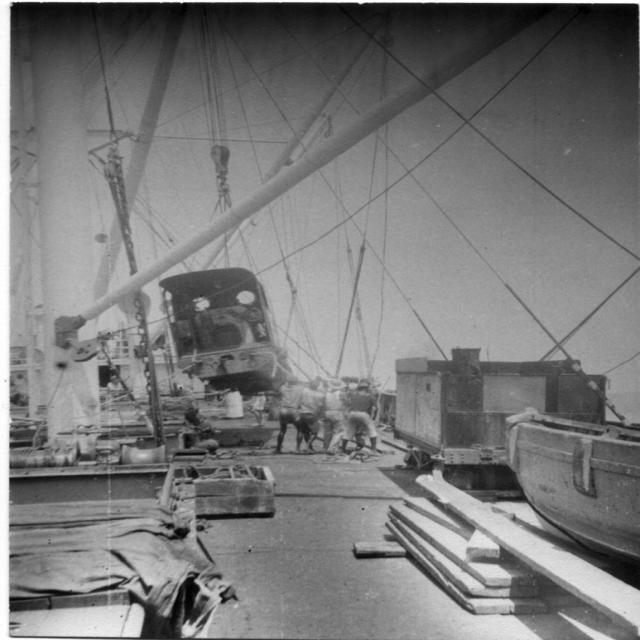Boat: (12, 5, 640, 640), (501, 394, 638, 541)
